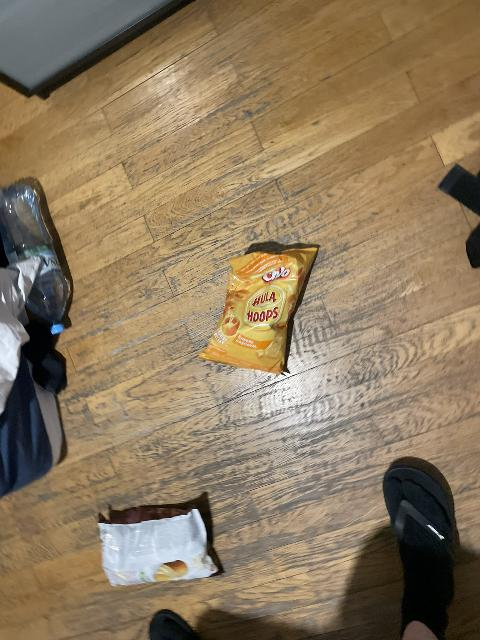Chio Hula Hoops Cheese 70g: (198, 246, 321, 375)
Lays Beef Grilled Ribs 125g: (97, 495, 224, 585)
